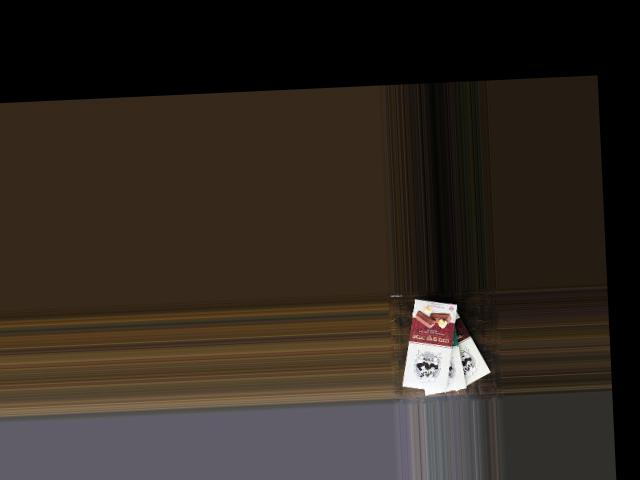chocolate: (428, 296, 492, 394)
